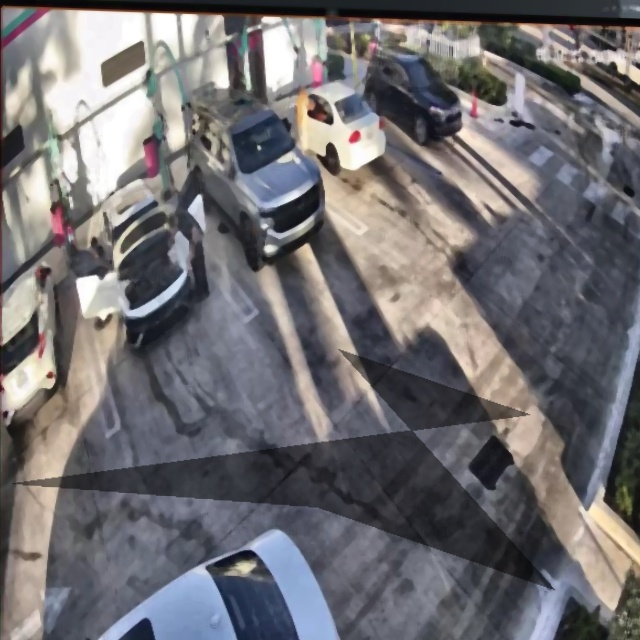Car: (187, 87, 325, 262), (79, 168, 198, 350), (280, 82, 385, 177)
